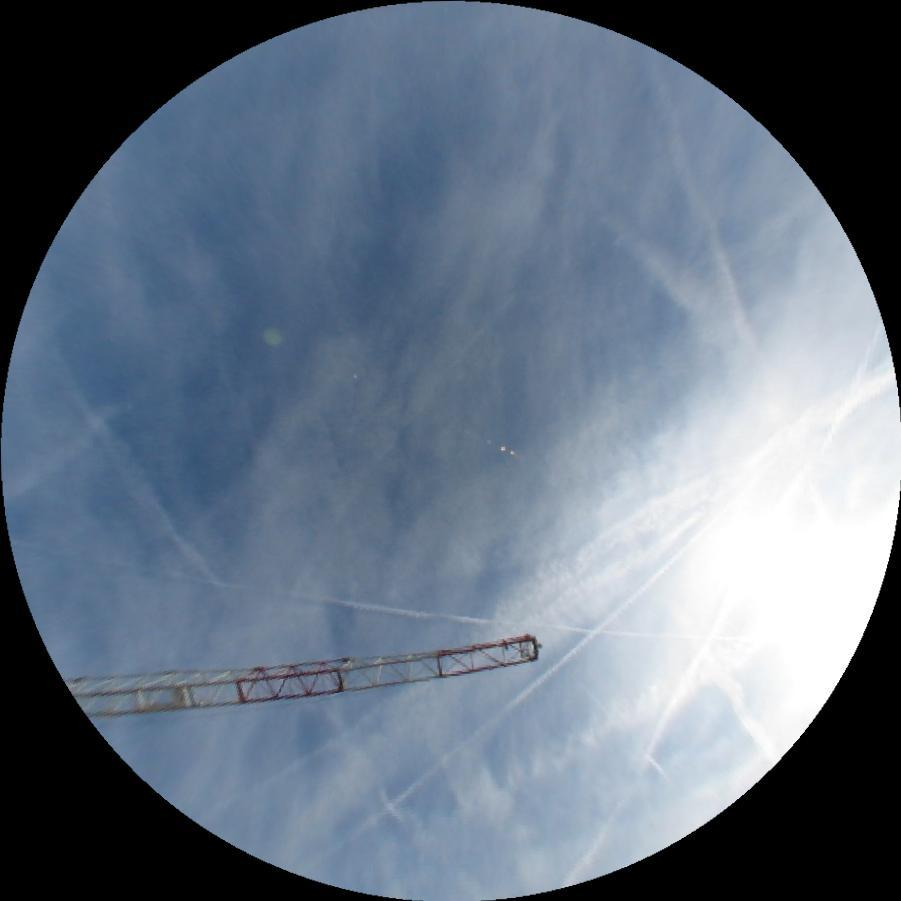contrail young: (818, 321, 885, 457)
sun: (709, 507, 897, 659)
